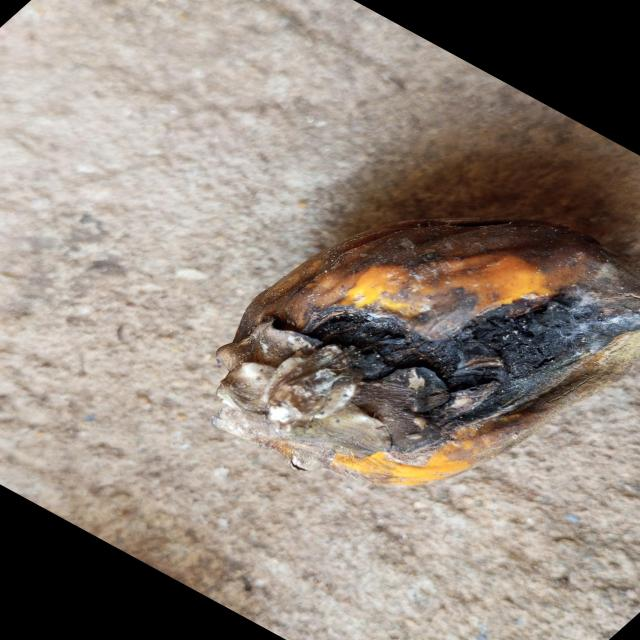damaged: (211, 219, 640, 485)
